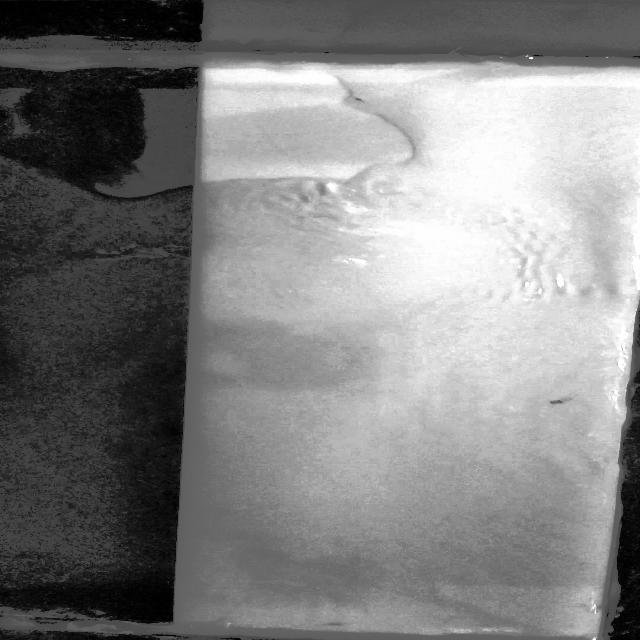shrimp: (543, 396, 568, 408), (349, 94, 371, 104)
